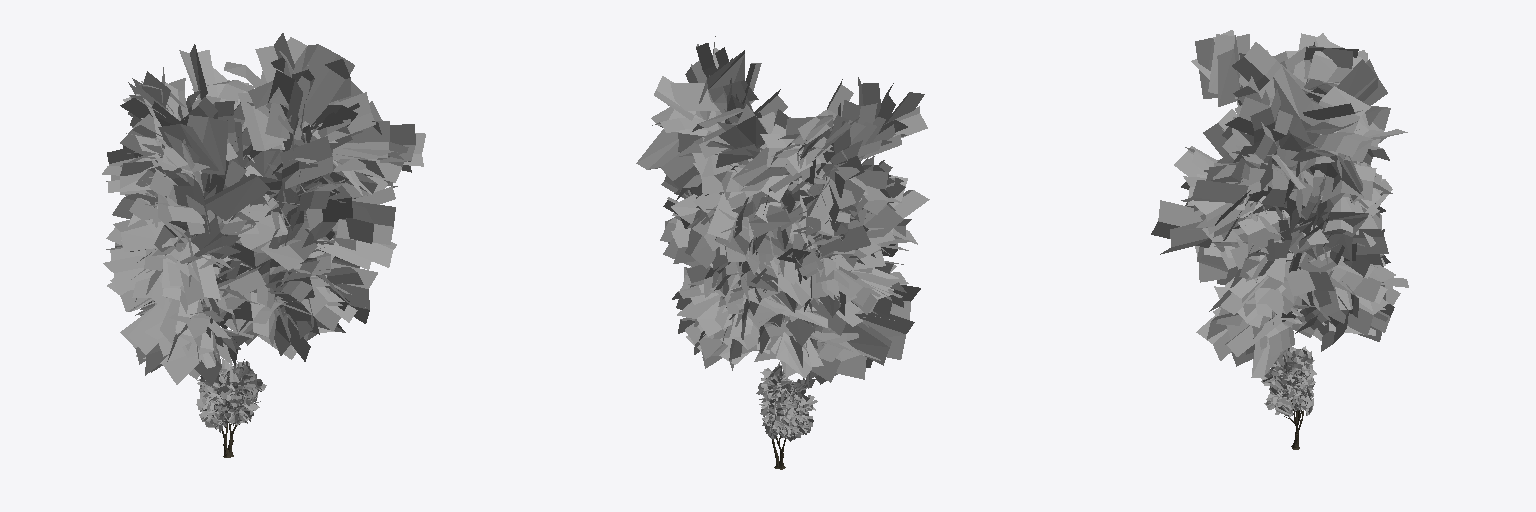
File: tree.obj
The picture shows the model from 3 angles: view 1: azimuth 30°, elevation 25°; view 2: azimuth 150°, elevation 25°; view 3: azimuth 270°, elevation 25°; orthographic projection.
Visible parts, largest first — view 1: Plane.887_Plane.888, Plane.964_Plane.965, Plane.921_Plane.922, Plane.963_Plane.964, Plane.914_Plane.915, Plane.1193_Plane.1194, Plane.928_Plane.929, Plane.1207_Plane.1208, Plane.1181_Plane.1182, Plane.853_Plane.854, Plane.879_Plane.880, Plane.925_Plane.926 (+28 smaller); view 2: Plane.799_Plane.800, Plane.802_Plane.803, Plane.1193_Plane.1194, Plane.1189_Plane.1190, Plane.801_Plane.802, Plane.1064_Plane.1065, Plane.908_Plane.909, Plane.938_Plane.939, Plane.1120_Plane.1121, Plane.910_Plane.911, Plane.1005_Plane.1006, Plane.1065_Plane.1066 (+19 smaller); view 3: Plane.799_Plane.800, Plane.1257_Plane.1258, Plane.802_Plane.803, Plane.983_Plane.984, Plane.924_Plane.925, Plane.946_Plane.947, Plane.963_Plane.964, Plane.956_Plane.957, Plane.922_Plane.923, Plane.1085_Plane.1086, Plane.952_Plane.953, Plane.834_Plane.835 (+23 smaller).
Boxes of the visible parts, x1,y1,x2,y2 form: Plane.887_Plane.888: [283, 58, 344, 126]; Plane.964_Plane.965: [204, 174, 269, 220]; Plane.921_Plane.922: [280, 136, 332, 188]; Plane.963_Plane.964: [183, 115, 227, 174]; Plane.914_Plane.915: [333, 121, 389, 159]; Plane.1193_Plane.1194: [128, 298, 169, 375]; Plane.928_Plane.929: [336, 201, 395, 244]; Plane.1207_Plane.1208: [180, 253, 220, 304]; Plane.1181_Plane.1182: [103, 256, 162, 292]; Plane.853_Plane.854: [113, 215, 177, 251]; Plane.879_Plane.880: [261, 226, 317, 270]; Plane.925_Plane.926: [238, 93, 282, 150]; Plane.799_Plane.800: [699, 50, 758, 128]; Plane.802_Plane.803: [636, 109, 712, 169]; Plane.1193_Plane.1194: [855, 309, 914, 359]; Plane.1189_Plane.1190: [842, 322, 891, 365]; Plane.801_Plane.802: [732, 124, 801, 186]; Plane.1064_Plane.1065: [814, 209, 870, 257]; Plane.908_Plane.909: [670, 83, 719, 110]; Plane.938_Plane.939: [661, 143, 715, 190]; Plane.1120_Plane.1121: [677, 297, 731, 336]; Plane.910_Plane.911: [707, 192, 742, 251]; Plane.1005_Plane.1006: [748, 205, 790, 250]; Plane.1065_Plane.1066: [863, 204, 903, 237]; Plane.799_Plane.800: [1273, 66, 1329, 151]; Plane.1257_Plane.1258: [1299, 212, 1368, 266]; Plane.802_Plane.803: [1291, 144, 1363, 202]; Plane.983_Plane.984: [1232, 42, 1305, 90]; Plane.924_Plane.925: [1151, 200, 1211, 247]; Plane.946_Plane.947: [1225, 97, 1292, 141]; Plane.963_Plane.964: [1217, 35, 1239, 106]; Plane.956_Plane.957: [1337, 59, 1387, 105]; Plane.922_Plane.923: [1181, 180, 1248, 204]; Plane.1085_Plane.1086: [1238, 209, 1289, 253]; Plane.952_Plane.953: [1319, 86, 1370, 132]; Plane.834_Plane.835: [1306, 132, 1372, 156].
Size of the model in its own units: 19.78 by 26.95 by 15.7.